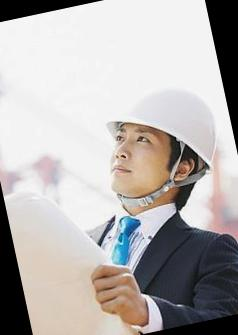helmet: (88, 77, 230, 203)
no_vest: (79, 185, 238, 335)
person: (59, 74, 238, 332)
